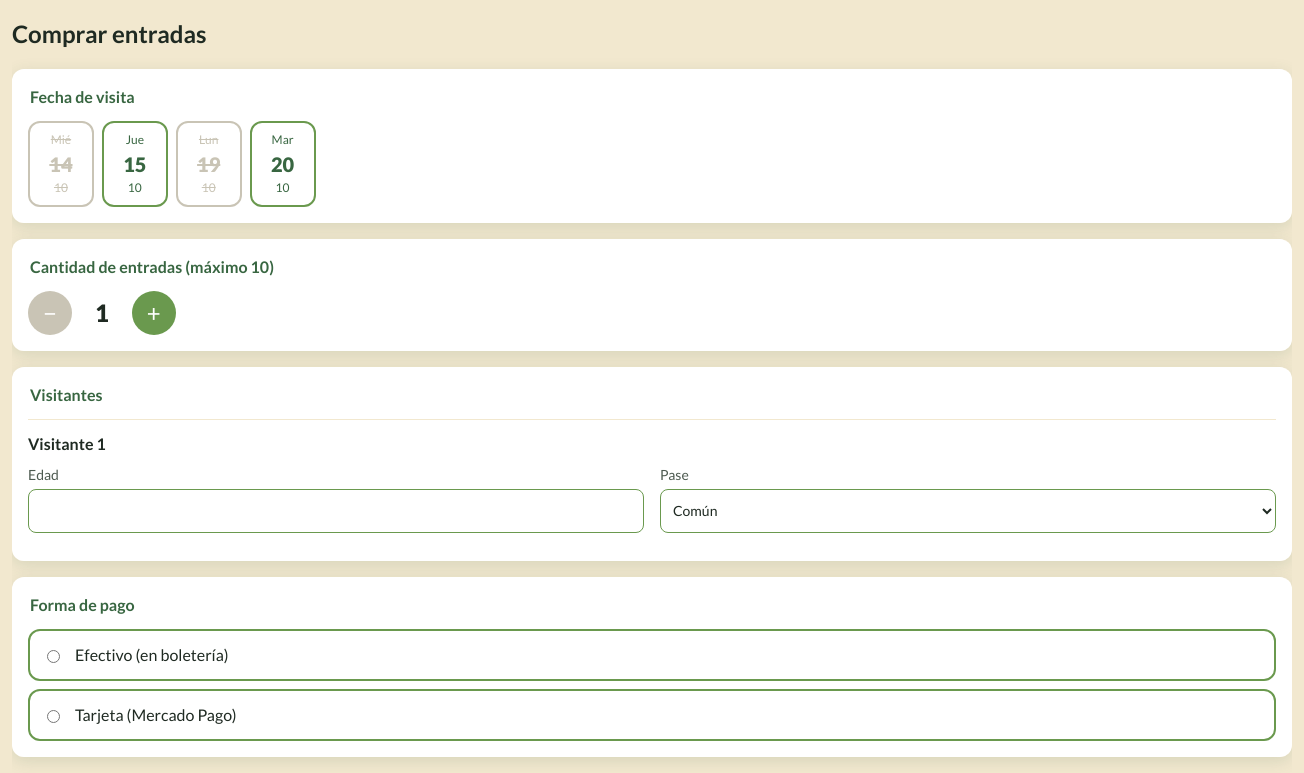
it: Formulario de compra de entradas › edad del visitante › no permite ingresar una edad negativa
Step 1. Type "-5" into the number field named "Edad del visitante 1" → {"x": 336, "y": 511}, box [28,489,644,533]
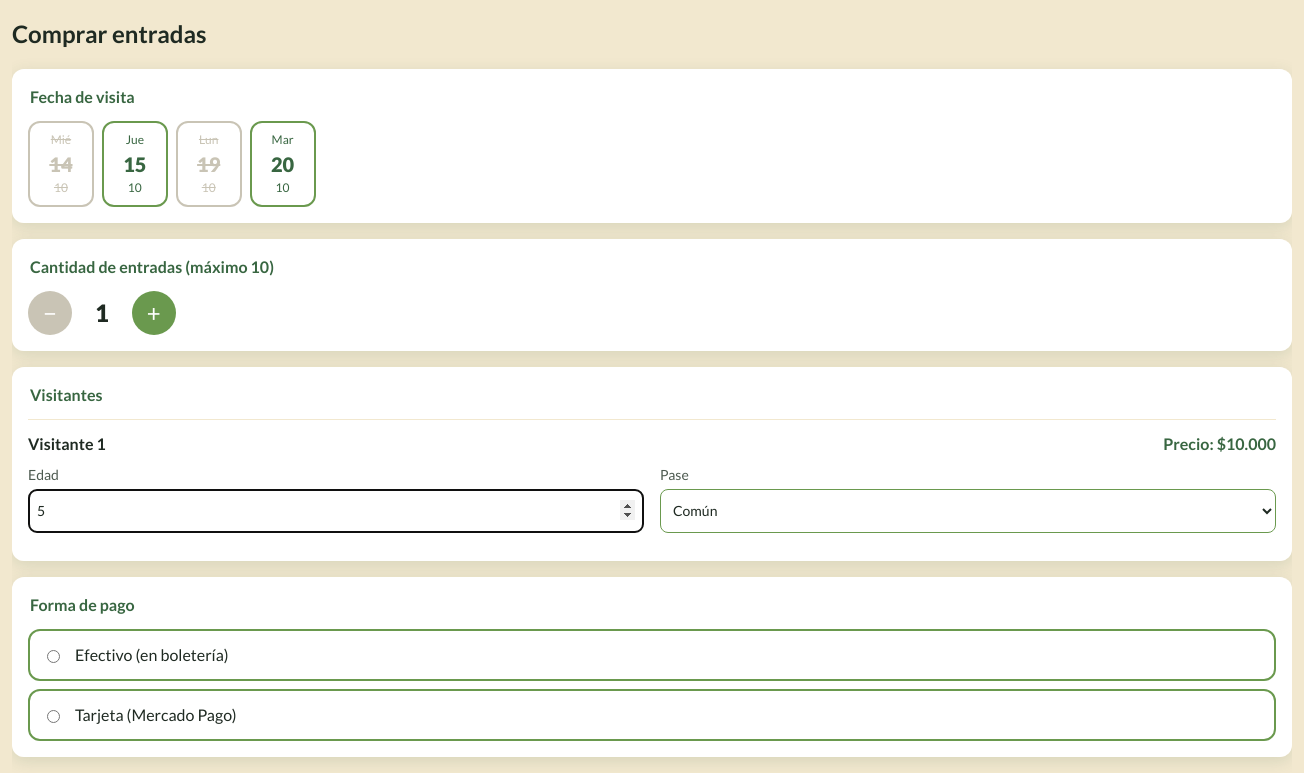
Now the number field named "Edad del visitante 1" holds "5", box [28,489,644,533]
